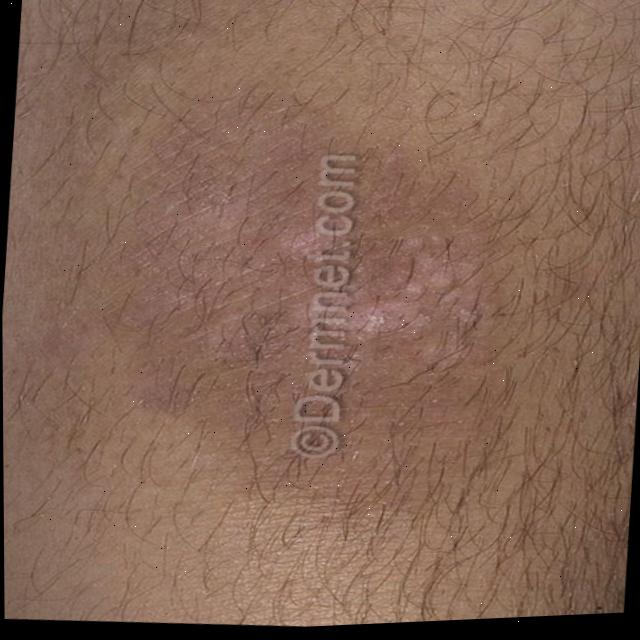Eczema: (150, 180, 491, 416)
